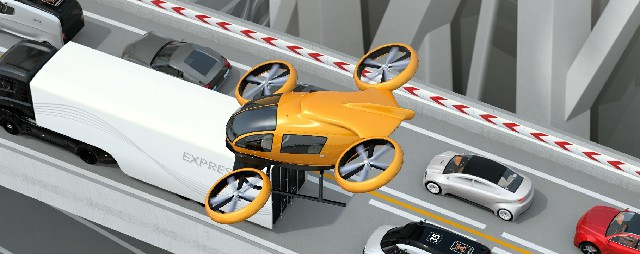maybay_khongnguoilai: (214, 54, 420, 204)
